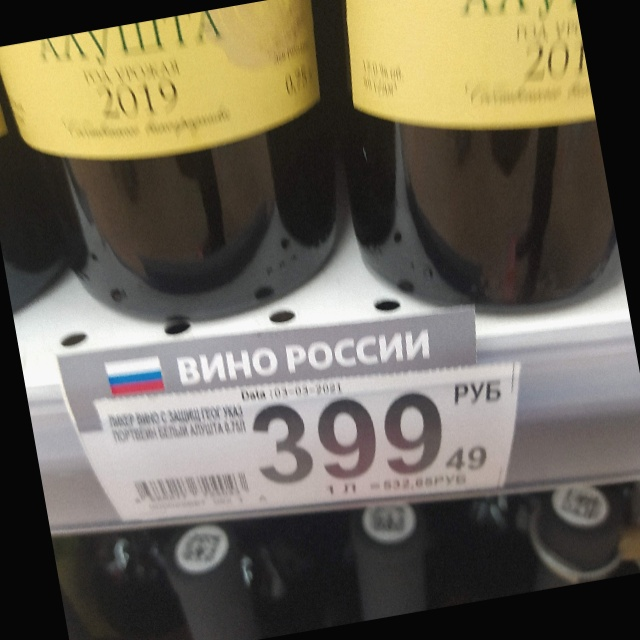barcode: (71, 359, 209, 427)
name: (86, 265, 245, 320)
price: (222, 314, 475, 478)
price_tag: (66, 242, 528, 515)
